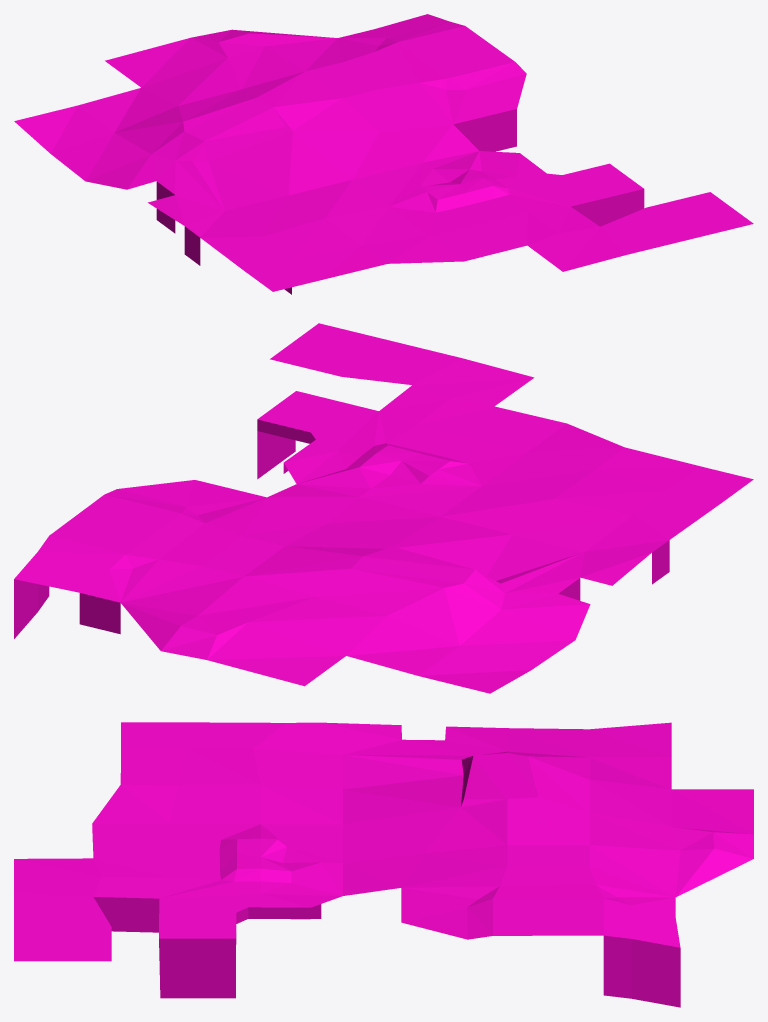
The model's file is Border.fbx.
3 views of the same model, one above another, from view 1: azimuth 30°, elevation 25°; view 2: azimuth 150°, elevation 25°; view 3: azimuth 270°, elevation 25° (orthographic). The views are drawn at different scales.
Visible parts, largest first — view 1: Border_01, Border_05, Border_06, Border_04, Border_03, Border_07, Border_09, Border_15, Border_12; view 2: Border_04, Border_03, Border_01, Border_06, Border_05, Border_07, Border_10, Border_08, Border_16, Border_02; view 3: Border_04, Border_01, Border_05, Border_06, Border_03, Border_07, Border_08, Border_16, Border_15, Border_02.
Boxes of the visible parts, left/top/right/bottom form: Border_01: left=389, top=163, right=753, bottom=271; Border_05: left=274, top=62, right=546, bottom=206; Border_06: left=86, top=107, right=388, bottom=237; Border_04: left=191, top=14, right=514, bottom=107; Border_03: left=14, top=37, right=272, bottom=181; Border_07: left=201, top=207, right=463, bottom=291; Border_09: left=453, top=109, right=516, bottom=151; Border_15: left=571, top=189, right=644, bottom=226; Border_12: left=184, top=226, right=200, bottom=265; Border_04: left=14, top=494, right=362, bottom=659; Border_03: left=207, top=556, right=574, bottom=693; Border_01: left=257, top=323, right=566, bottom=485; Border_06: left=363, top=486, right=669, bottom=639; Border_05: left=105, top=440, right=481, bottom=556; Border_07: left=482, top=423, right=753, bottom=539; Border_10: left=79, top=593, right=120, bottom=634; Border_08: left=14, top=579, right=49, bottom=638; Border_16: left=257, top=431, right=295, bottom=479; Border_02: left=257, top=419, right=315, bottom=473; Border_04: left=493, top=797, right=753, bottom=947; Border_01: left=14, top=823, right=260, bottom=961; Border_05: left=249, top=799, right=507, bottom=939; Border_06: left=253, top=722, right=507, bottom=824; Border_03: left=507, top=722, right=753, bottom=834; Border_07: left=92, top=722, right=284, bottom=823; Border_08: left=603, top=935, right=680, bottom=1007; Border_16: left=159, top=938, right=235, bottom=998; Border_15: left=93, top=897, right=159, bottom=947; Border_02: left=236, top=907, right=310, bottom=944.
Bounding box in the file's own units: 9376 × 1472 × 12000.
